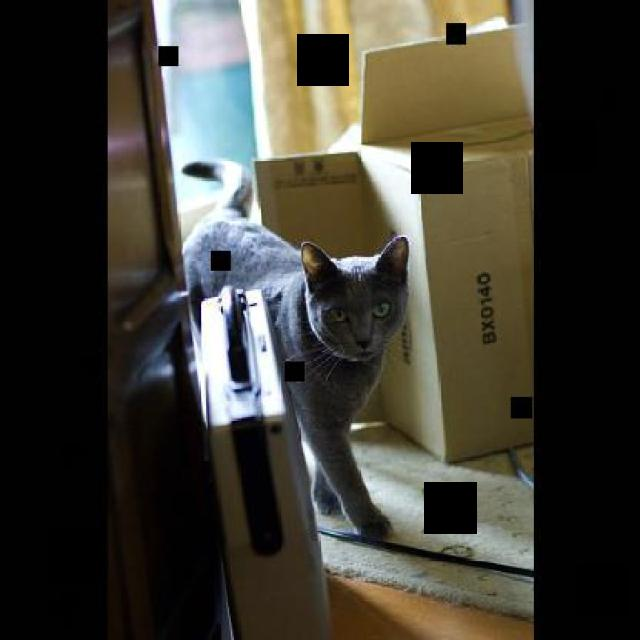unauthorized: (178, 157, 410, 543)
